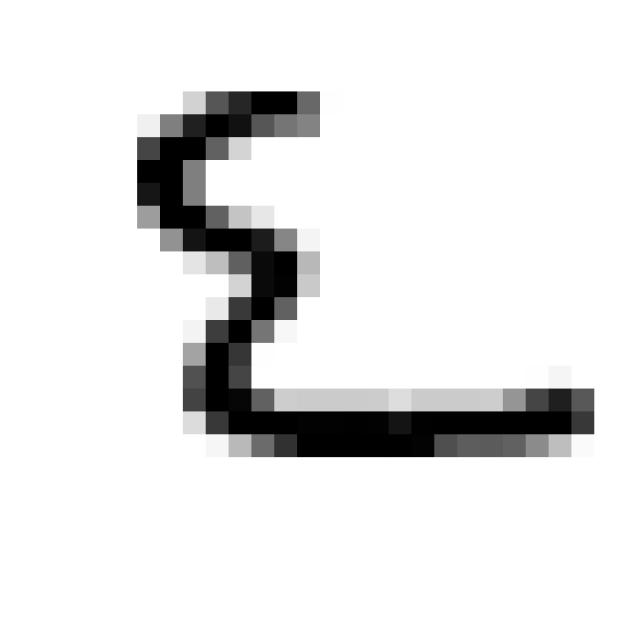4 -four-: (117, 71, 614, 481)
